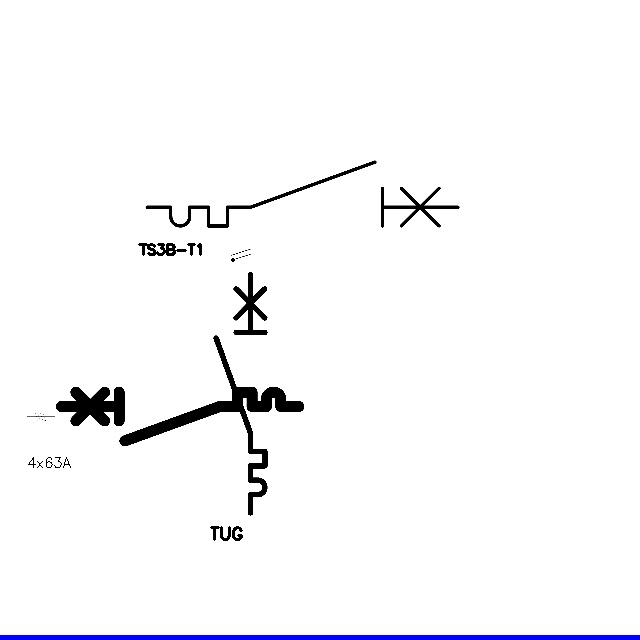interruptor_termomagnetico: (139, 154, 466, 234), (210, 268, 271, 519), (55, 386, 304, 447)
